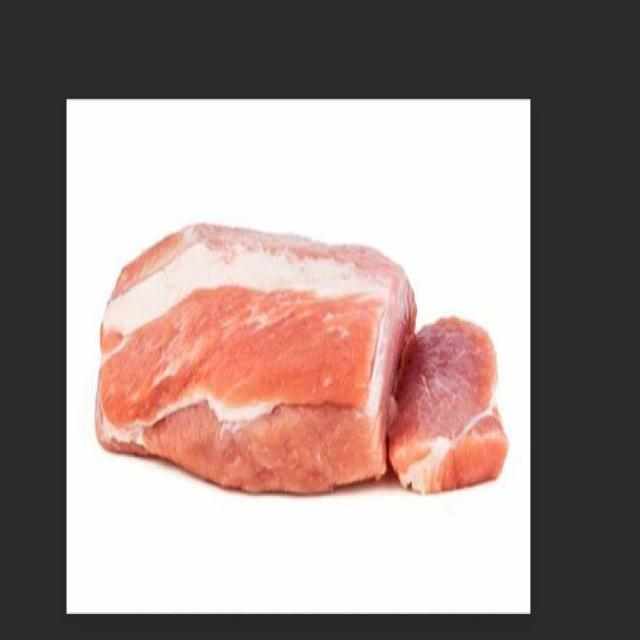pork: (97, 206, 512, 510)
